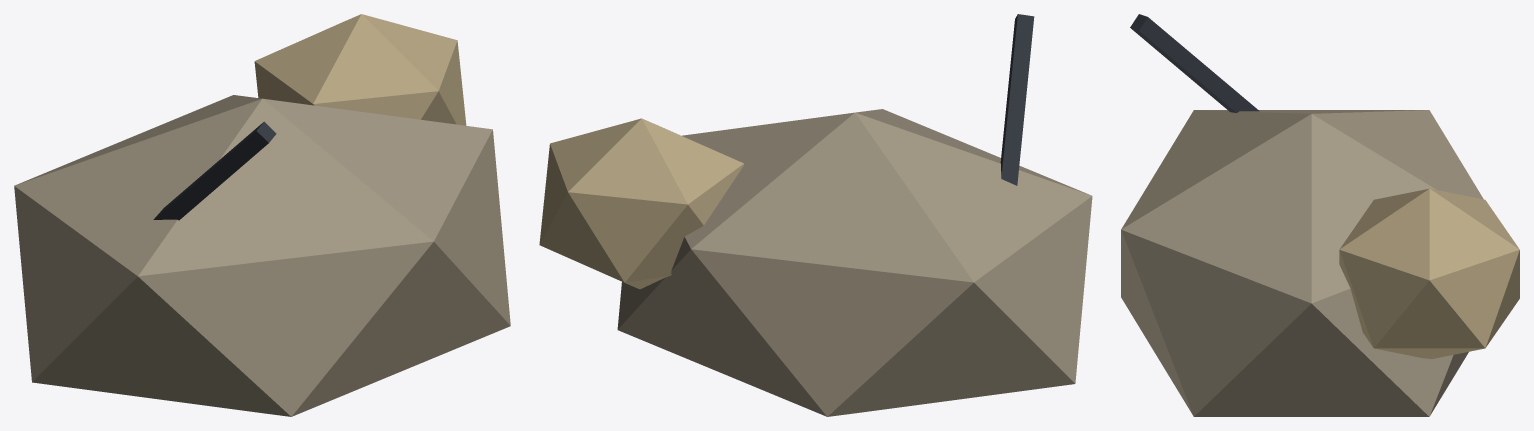
Rendered from prop_debris_chunk.glb.
The picture shows the model from 3 angles, left to right: view 1: azimuth 30°, elevation 25°; view 2: azimuth 150°, elevation 25°; view 3: azimuth 270°, elevation 25°; orthographic projection. The views are drawn at different scales.
Parts seen in each view (by area): view 1: prop_debris_chunk; view 2: prop_debris_chunk; view 3: prop_debris_chunk.
Part boxes in pixels (<box>): prop_debris_chunk: <box>14,14,510,416</box>; prop_debris_chunk: <box>539,14,1092,416</box>; prop_debris_chunk: <box>1121,14,1519,416</box>.
Size of the model in its own units: 0.4541 by 0.334 by 0.3382.
1 material, 1 textured.
